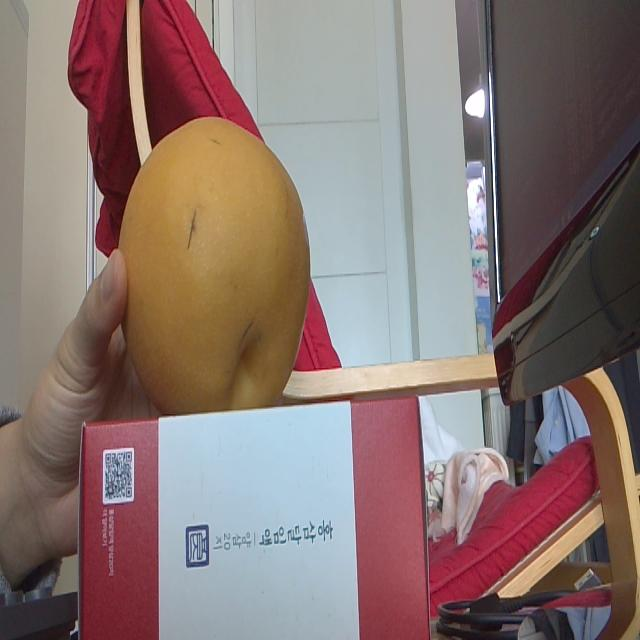pear: (118, 116, 311, 407)
